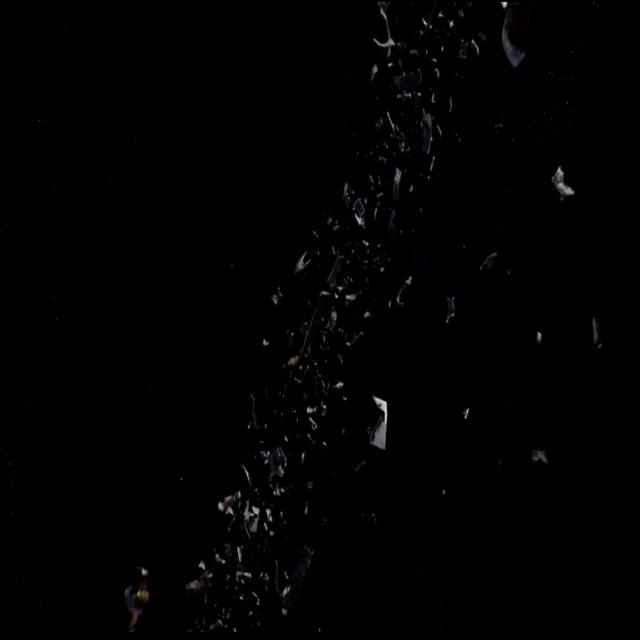large_debris: (287, 247, 353, 387), (275, 535, 323, 617), (498, 3, 542, 73), (121, 562, 157, 637), (371, 1, 405, 71), (366, 383, 392, 459), (177, 556, 216, 606), (340, 177, 370, 237), (546, 161, 579, 215), (416, 103, 438, 167), (218, 483, 244, 537), (441, 290, 460, 333)
